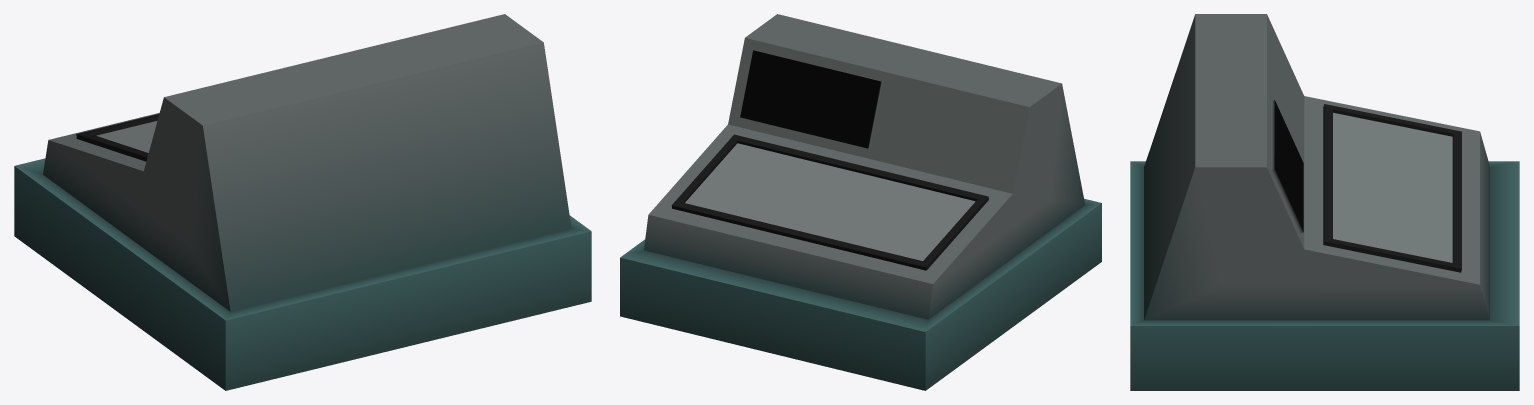
Rendered from Cash register.fbx.
The picture shows the model from 3 angles, left to right: view 1: azimuth 30°, elevation 25°; view 2: azimuth 150°, elevation 25°; view 3: azimuth 270°, elevation 25°; orthographic projection. The views are drawn at different scales.
Parts seen in each view (by area): view 1: pCube164; view 2: pCube164; view 3: pCube164.
Part boxes in pixels (left/top/right/bottom): pCube164: left=14, top=14, right=591, bottom=390; pCube164: left=620, top=14, right=1101, bottom=390; pCube164: left=1130, top=14, right=1519, bottom=390.
Bounding box in the file's own units: 39.4 × 24.33 × 39.4.
